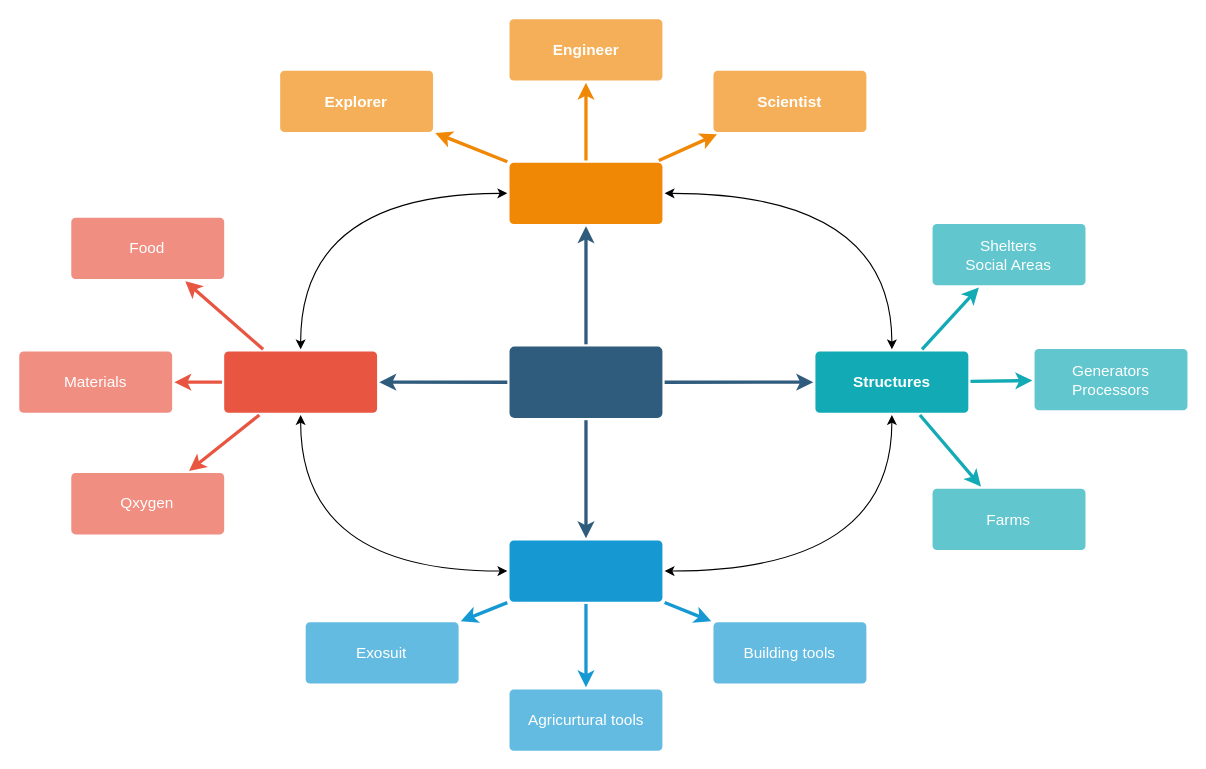
Image size: 1206x769. Some labels were removed from this diagram. The shapes that lost their labels are listed below. From the top down, each one's centre as x and y in pixels, then its label:
At [585,192]: "Colonizer".
At [300,381]: "Resources".
At [585,381]: "Mars Colony".
At [585,570]: "Equipment".
